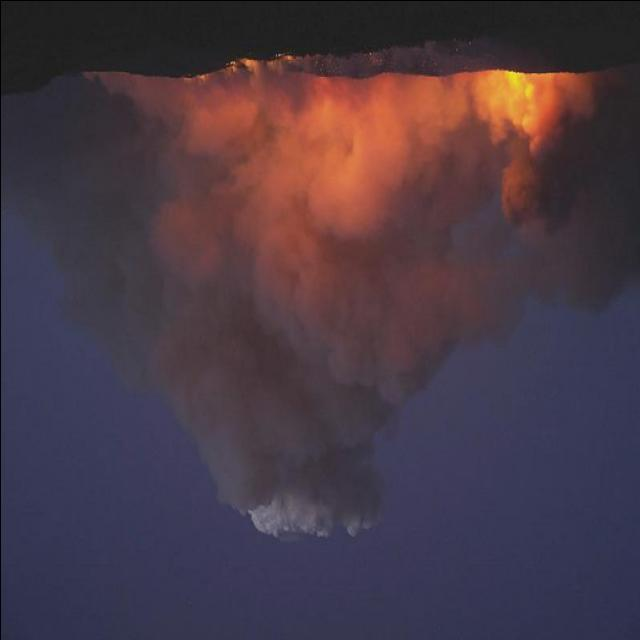Fire: (502, 67, 536, 105)
